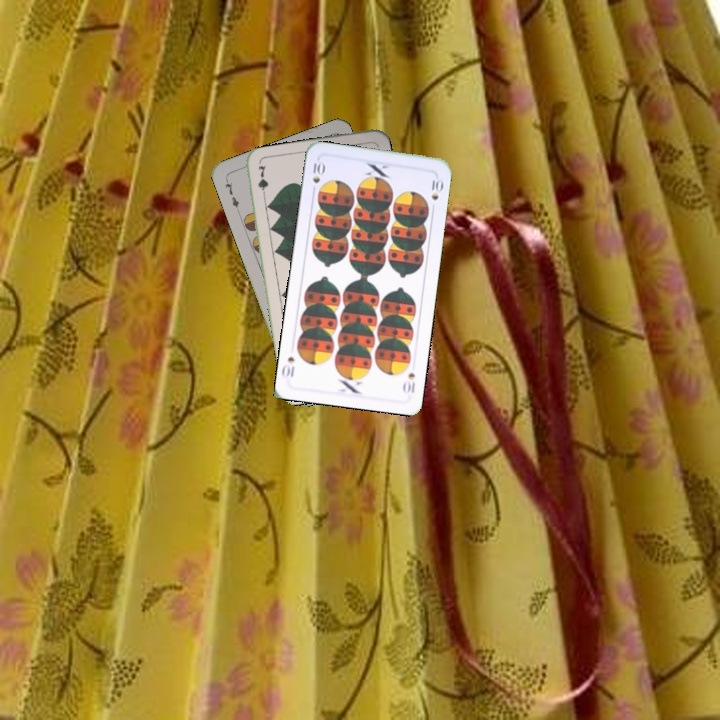E7: (221, 175, 242, 213)
G7: (254, 161, 270, 202)
S10: (308, 158, 327, 196), (399, 367, 417, 396)
